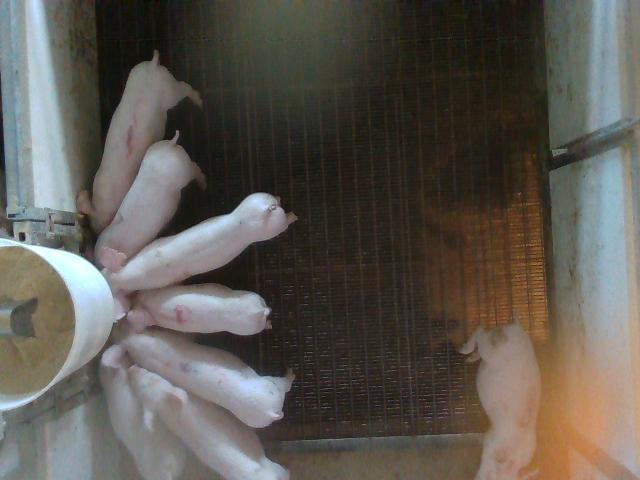pig-1: (78, 51, 201, 233)
pig-3: (460, 320, 541, 478)
pig-4: (136, 284, 271, 334)
